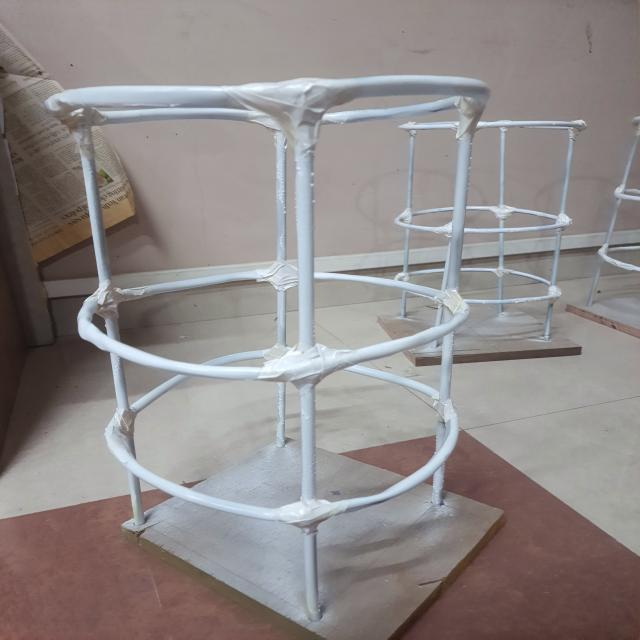silo: (55, 76, 498, 594), (403, 106, 584, 354), (589, 110, 640, 337)
